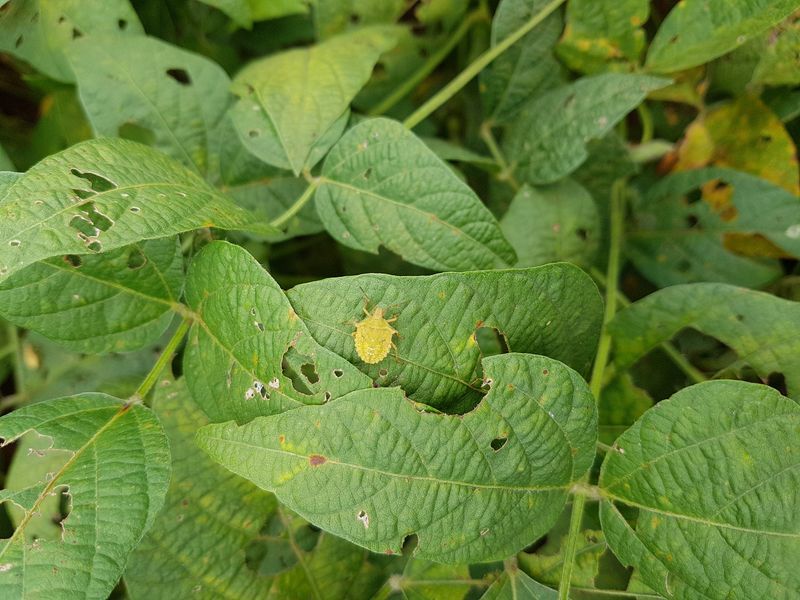Euschistus_heros_ninfa: (341, 285, 410, 370)
